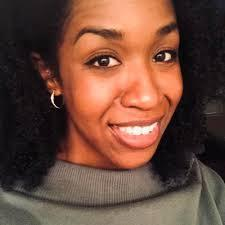Persons: (27, 0, 205, 174)
